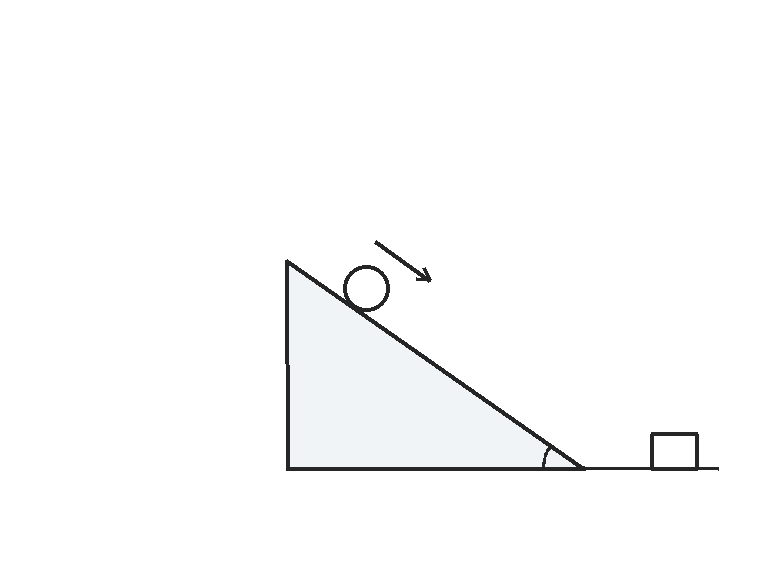ball: (341, 263, 391, 313)
block: (649, 432, 699, 470)
ramp: (284, 258, 585, 470)
